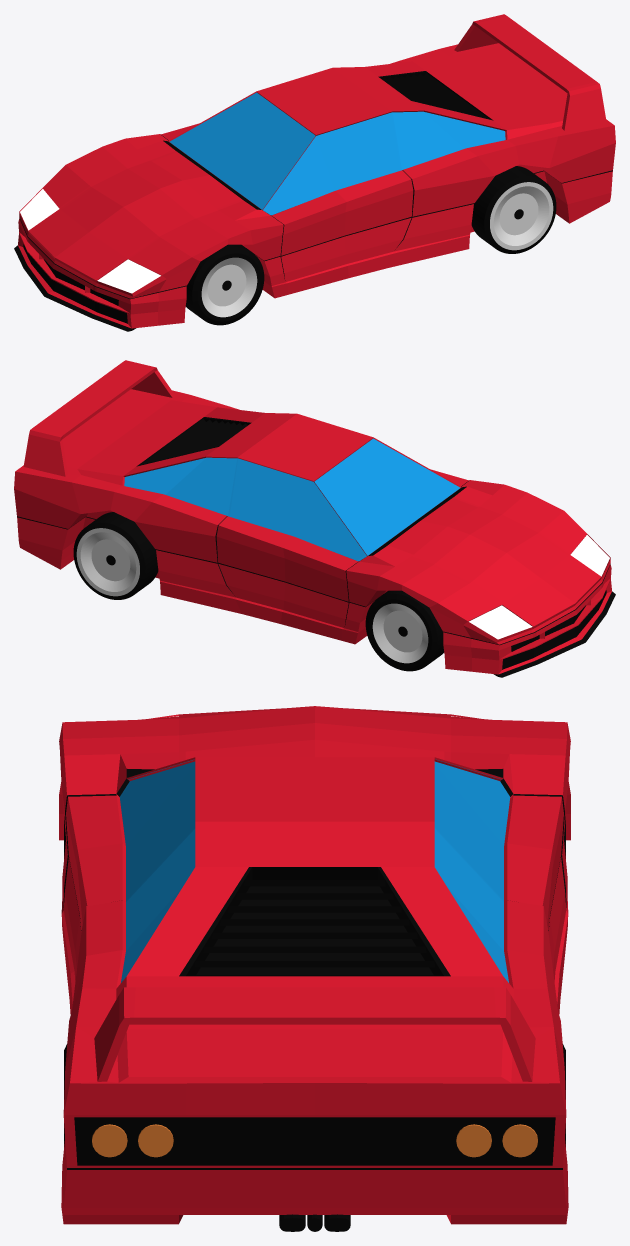
The model's file is Ferrari F40_v009.fbx.
3 views of the same model, one above another, from view 1: azimuth 30°, elevation 25°; view 2: azimuth 150°, elevation 25°; view 3: azimuth 270°, elevation 25° (orthographic). The views are drawn at different scales.
Parts seen in each view (by area): view 1: Cube, kolo TL, kolo PL, swiatła P; view 2: Cube, kolo TP, kolo PP, swiatła P; view 3: Cube, swiatła T.
Boxes of the visible parts, left/top/right/bottom form: Cube: left=14, top=14, right=615, bottom=331; kolo TL: left=471, top=166, right=556, bottom=253; kolo PL: left=185, top=244, right=264, bottom=325; swiatła P: left=20, top=189, right=160, bottom=293; Cube: left=14, top=360, right=615, bottom=677; kolo TP: left=73, top=512, right=158, bottom=599; kolo PP: left=365, top=590, right=444, bottom=671; swiatła P: left=469, top=535, right=609, bottom=639; Cube: left=59, top=706, right=570, bottom=1231; swiatła T: left=92, top=1124, right=537, bottom=1157.
Size of the model in its own units: 201 by 463 by 123.
